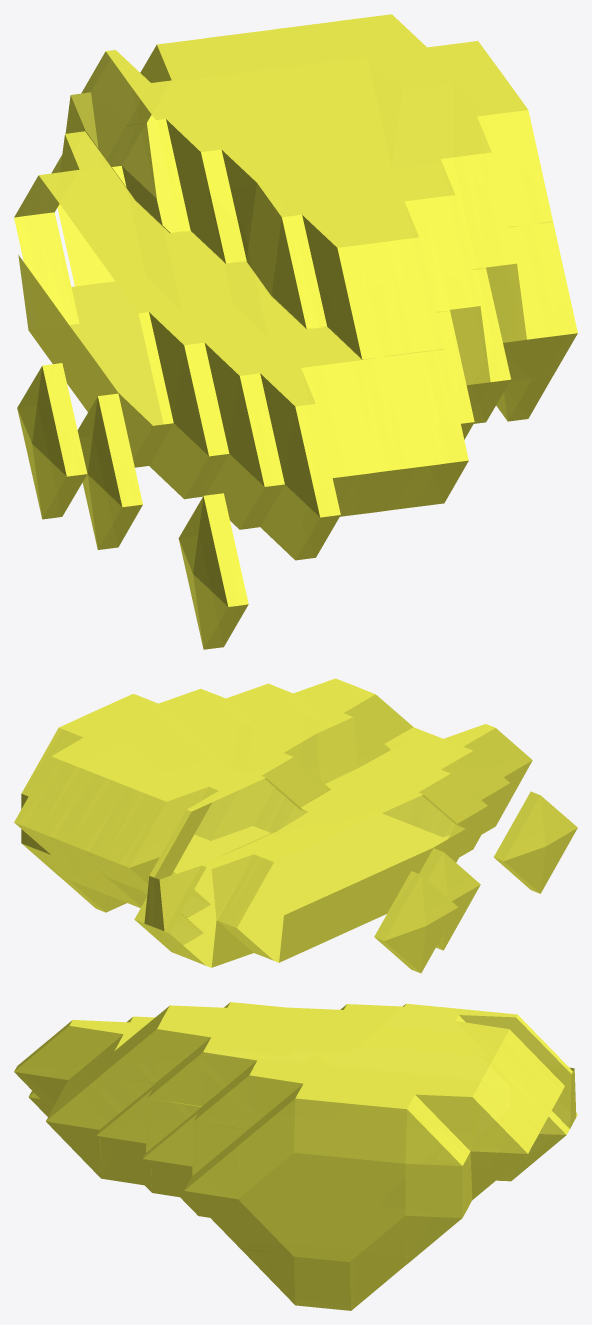
Rendered from SVV_CANR.gltf.
3 views of the same model, one above another, from view 1: azimuth 30°, elevation 25°; view 2: azimuth 150°, elevation 25°; view 3: azimuth 270°, elevation 25° (orthographic). The views are drawn at different scales.
Parts seen in each view (by area): view 1: CANR; view 2: CANR; view 3: CANR.
Part boxes in pixels (left/top/right/bottom): CANR: left=14, top=14, right=577, bottom=649; CANR: left=14, top=678, right=577, bottom=973; CANR: left=14, top=1002, right=577, bottom=1310.
Size of the model in its own units: 4870 by 2630 by 6494.
